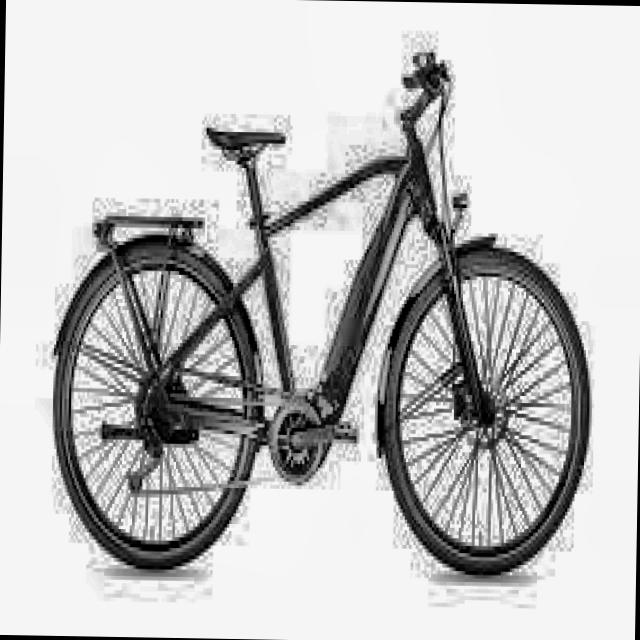bicycle: (45, 33, 598, 584)
